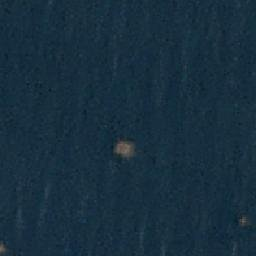debris: (109, 138, 136, 158), (236, 216, 250, 228)
